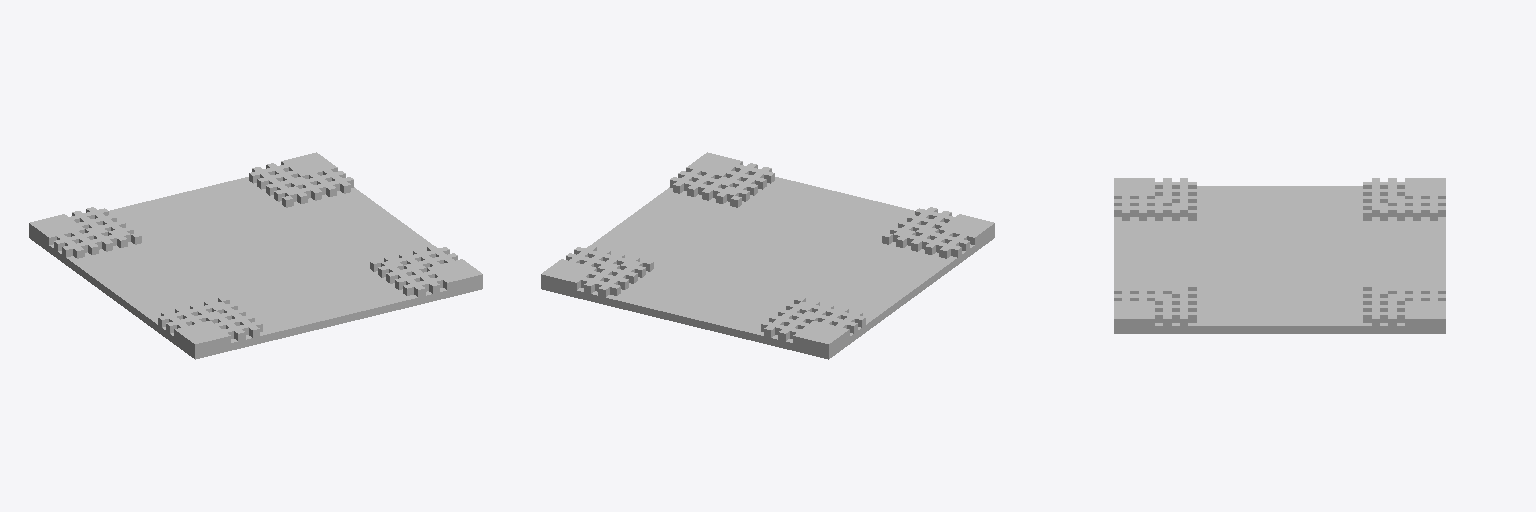
Rendered from Street_01_Center.obj.
The picture shows the model from 3 angles: view 1: azimuth 30°, elevation 25°; view 2: azimuth 150°, elevation 25°; view 3: azimuth 270°, elevation 25°; orthographic projection.
Parts seen in each view (by area): view 1: Street_01.002; view 2: Street_01.002; view 3: Street_01.002.
Boxes of the visible parts, x1,y1,x2,y2 form: Street_01.002: [29, 152, 482, 359]; Street_01.002: [541, 152, 994, 359]; Street_01.002: [1114, 178, 1445, 333].
Bounding box in the file's own units: 4 × 0.2 × 4.